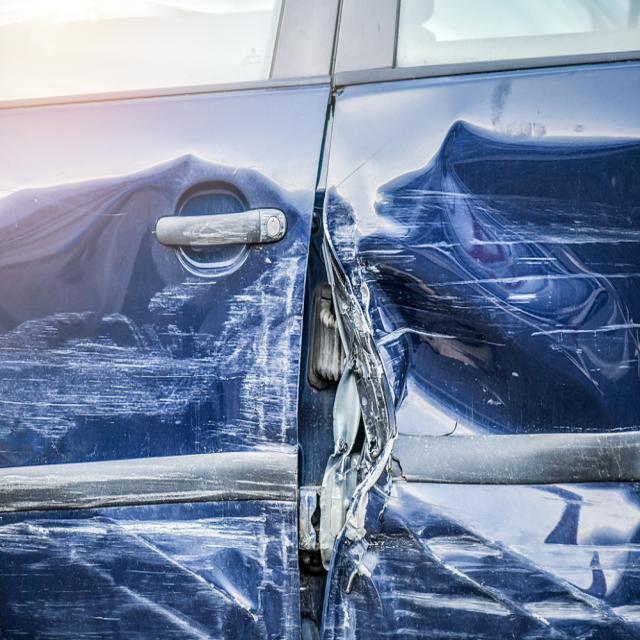dent: (323, 119, 640, 640), (0, 148, 300, 616)
